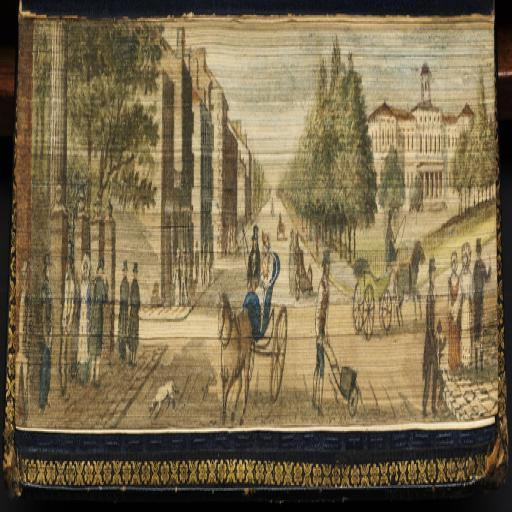horse: (216, 291, 254, 427), (392, 234, 428, 330)
